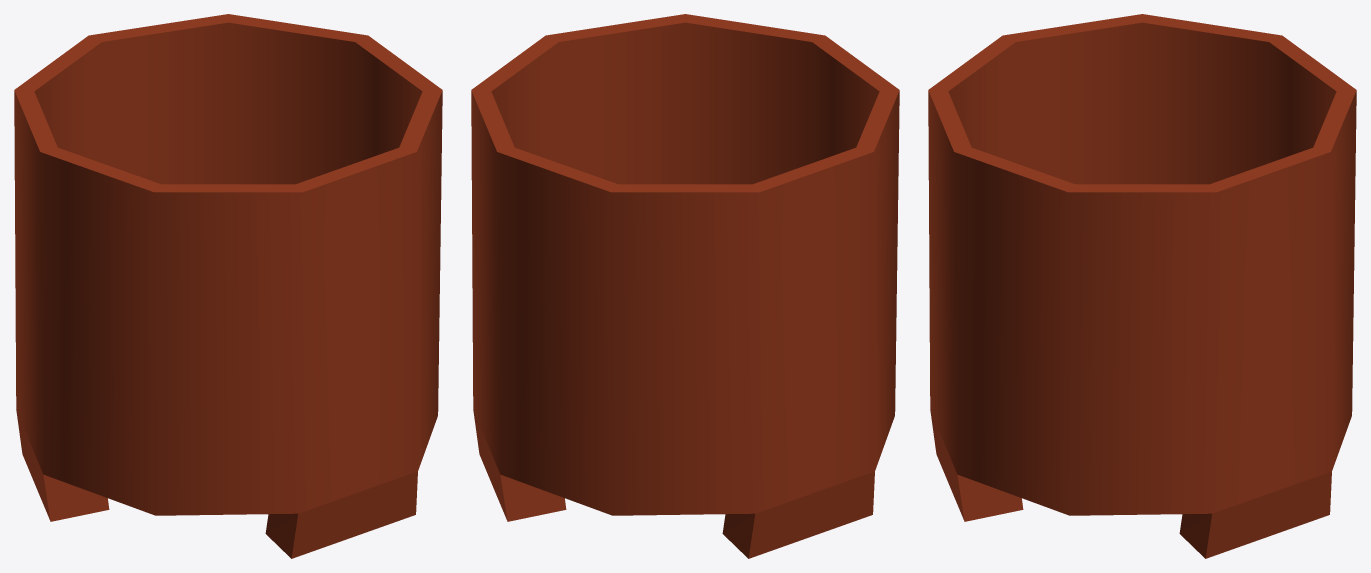
Rendered from Cup 1.FBX.
3 renders of one model, left to right at view 1: azimuth 30°, elevation 25°; view 2: azimuth 150°, elevation 25°; view 3: azimuth 270°, elevation 25°, orthographic.
Parts seen in each view (by area): view 1: Cylinder002; view 2: Cylinder002; view 3: Cylinder002.
Boxes of the visible parts, left/top/right/bottom form: Cylinder002: left=14, top=14, right=442, bottom=558; Cylinder002: left=471, top=14, right=899, bottom=558; Cylinder002: left=928, top=14, right=1356, bottom=558.
Size of the model in its own units: 7.04 by 6.77 by 7.14.
